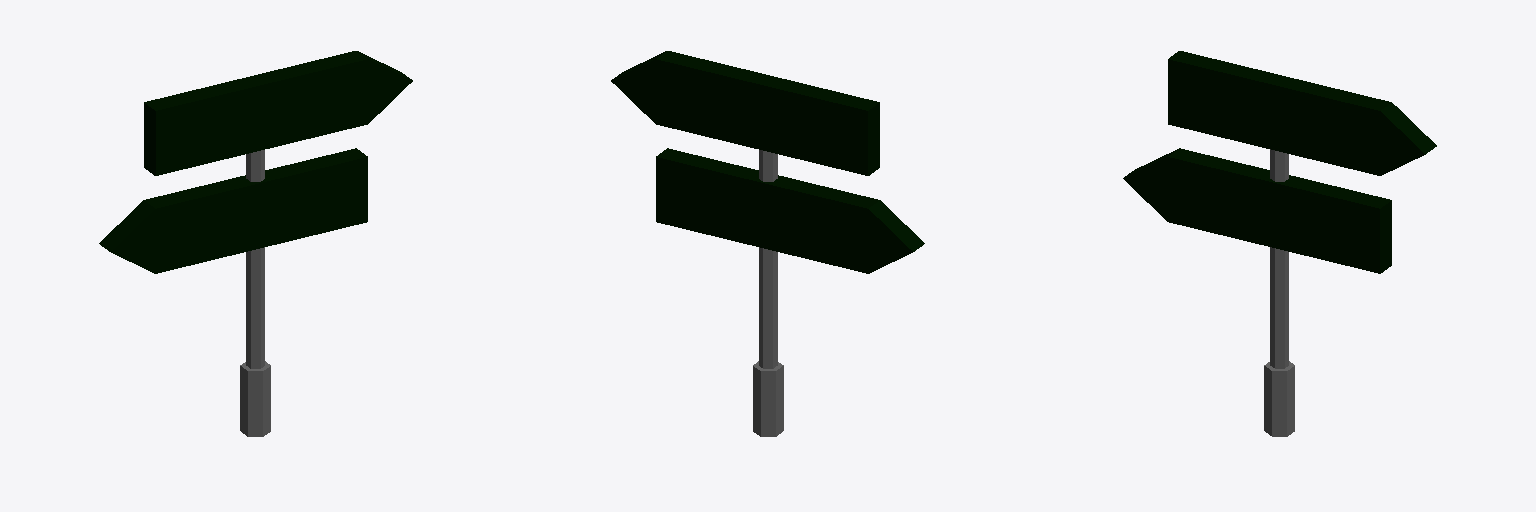
Rendered from SignBoard_07.obj.
3 views of the same model, side by side, from view 1: azimuth 30°, elevation 25°; view 2: azimuth 150°, elevation 25°; view 3: azimuth 330°, elevation 25° (orthographic).
Parts seen in each view (by area): view 1: SignBoard_07_Cylinder.031; view 2: SignBoard_07_Cylinder.031; view 3: SignBoard_07_Cylinder.031.
Boxes of the visible parts, x1=… form: SignBoard_07_Cylinder.031: x1=99, y1=51, x2=412, y2=436; SignBoard_07_Cylinder.031: x1=611, y1=51, x2=924, y2=436; SignBoard_07_Cylinder.031: x1=1123, y1=51, x2=1436, y2=436.
Size of the model in its own units: 12.53 by 13.85 by 1.1.